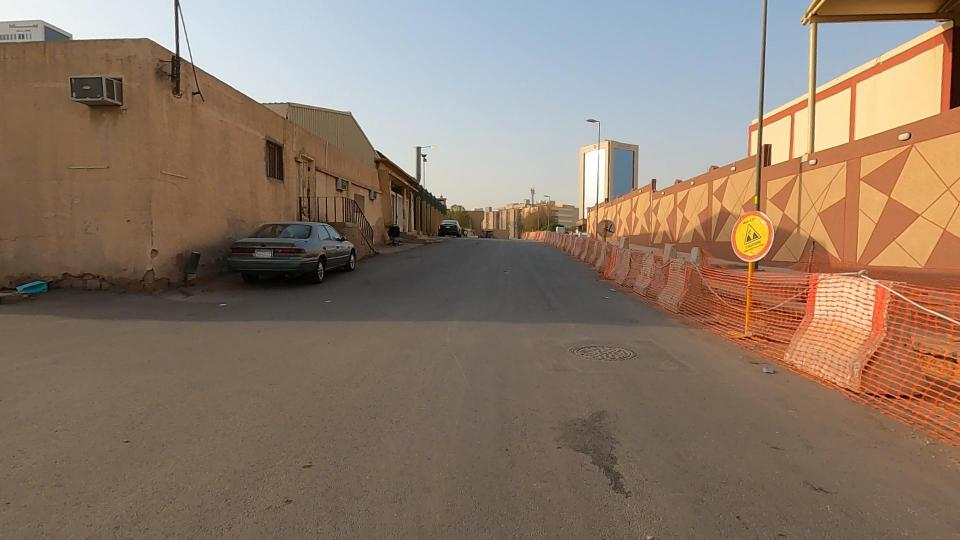CONSTRUCTION_ROAD: (672, 169, 960, 524), (516, 192, 804, 366)
GARBAGE: (0, 241, 98, 336)
